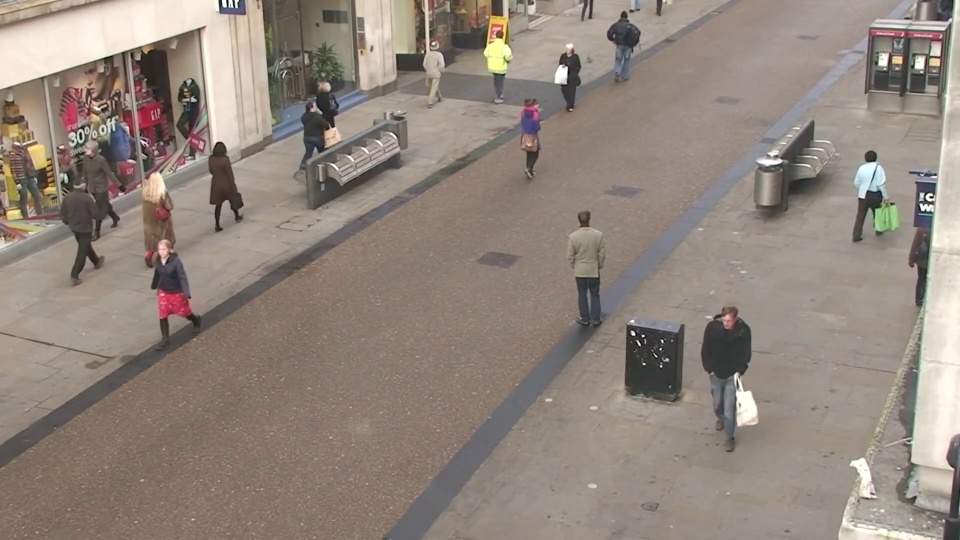pedestrian: (698, 305, 749, 450), (135, 236, 187, 360), (70, 165, 118, 272), (853, 142, 897, 247), (146, 160, 190, 264), (566, 203, 604, 323), (65, 139, 111, 238), (210, 136, 249, 234), (303, 92, 336, 180), (520, 89, 550, 178), (316, 78, 347, 162), (553, 43, 579, 118), (424, 36, 450, 109), (489, 26, 514, 96), (614, 5, 636, 71)
